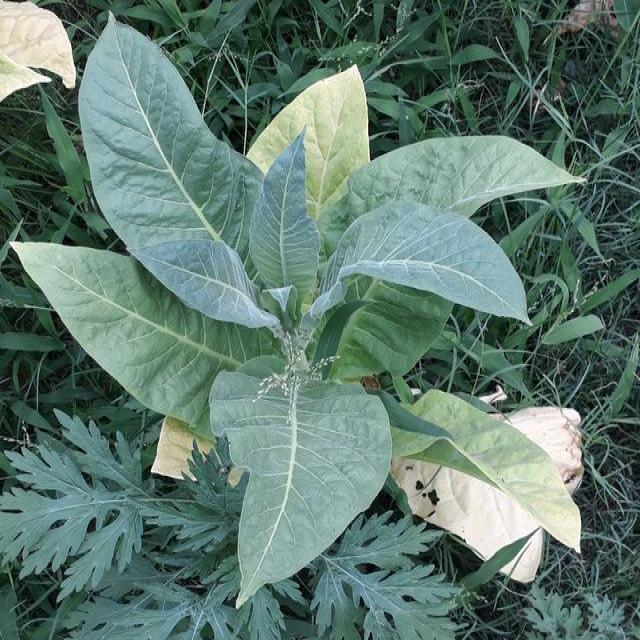crop: (19, 18, 590, 604)
